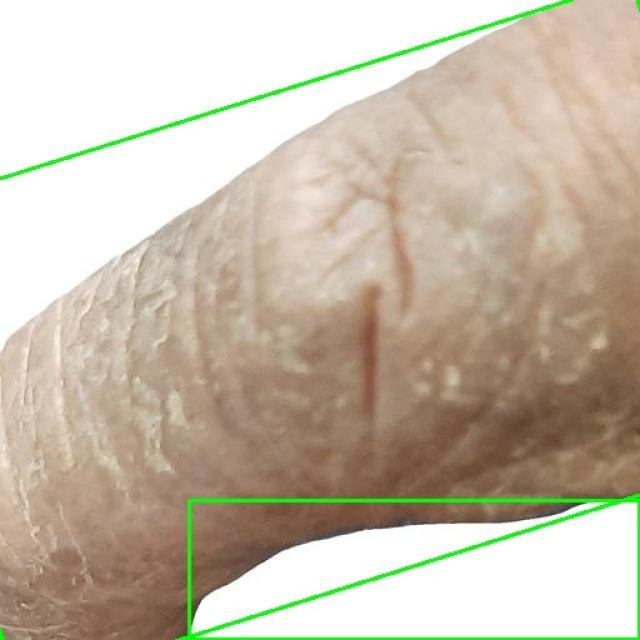Eczema: (0, 0, 640, 640), (189, 500, 639, 639)
